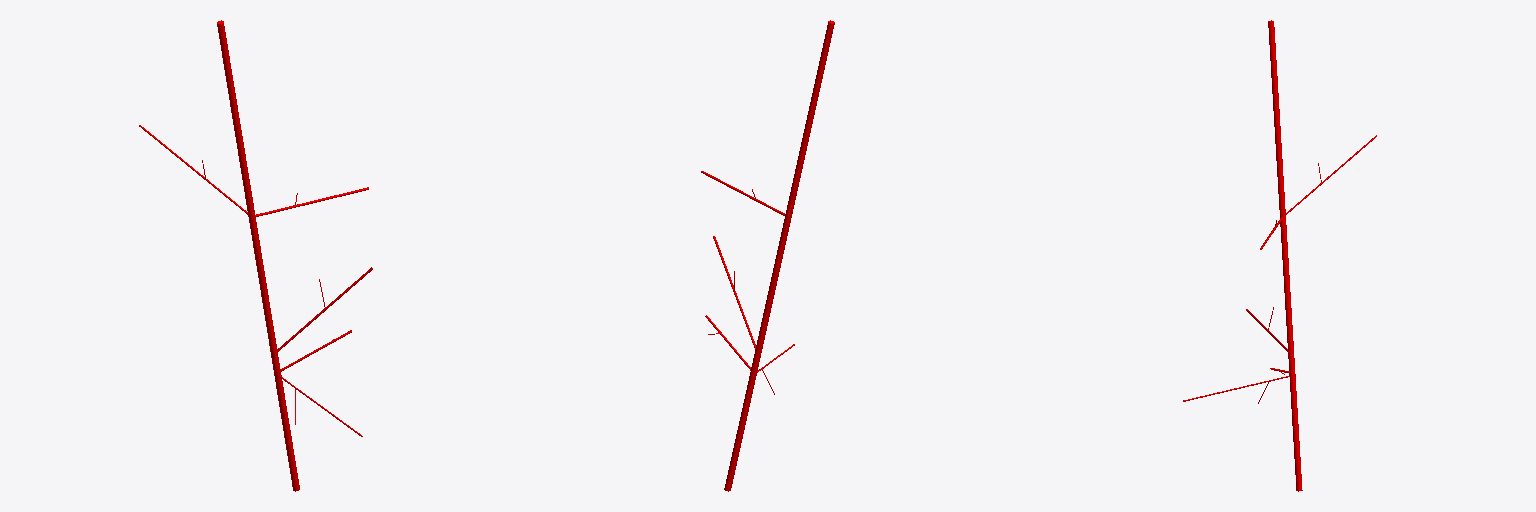
robot.urdf — tree_57.urdf:
<?xml version='1.0' encoding='UTF-8'?>
<robot name="tree_57.urdf">
  <link name="branch_0">
    <inertial>
      <origin xyz="0.0 0.0 0.0" rpy="0.0 -0.0 0.0"/>
      <mass value="0.1"/>
      <inertia ixx="0.001" ixy="0.0" ixz="0.0" iyy="0.001" iyz="0.0" izz="0.001"/>
    </inertial>
    <visual name="branch_0_visual">
      <geometry>
        <cylinder radius="0.07374623050040444" length="11.730475145177925"/>
      </geometry>
      <material name="semantic_material"/>
      <origin xyz="-1.1117279757501413 -0.34293364216243405 5.7486928260185355" rpy="6.630599876571743e-18 0.19968264167855315 -2.8423843373606554"/>
    </visual>
    <collision name="branch_0_collision">
      <geometry>
        <cylinder radius="0.07374623050040444" length="11.730475145177925"/>
      </geometry>
      <origin xyz="-1.1117279757501413 -0.34293364216243405 5.7486928260185355" rpy="6.630599876571743e-18 0.19968264167855315 -2.8423843373606554"/>
    </collision>
  </link>
  <link name="branch_1">
    <inertial>
      <origin xyz="0.0 0.0 0.0" rpy="0.0 -0.0 0.0"/>
      <mass value="0.1"/>
      <inertia ixx="0.001" ixy="0.0" ixz="0.0" iyy="0.001" iyz="0.0" izz="0.001"/>
    </inertial>
    <visual name="branch_1_visual">
      <geometry>
        <cylinder radius="0.02769369212993688" length="2.5629473573617316"/>
      </geometry>
      <material name="semantic_material"/>
      <origin xyz="0.0 0.0 0.0" rpy="0.0 -0.0 0.0"/>
    </visual>
    <collision name="branch_1_collision">
      <geometry>
        <cylinder radius="0.02769369212993688" length="2.5629473573617316"/>
      </geometry>
      <origin xyz="0.0 0.0 0.0" rpy="0.0 -0.0 0.0"/>
    </collision>
  </link>
  <link name="branch_2">
    <inertial>
      <origin xyz="0.0 0.0 0.0" rpy="0.0 -0.0 0.0"/>
      <mass value="0.1"/>
      <inertia ixx="0.001" ixy="0.0" ixz="0.0" iyy="0.001" iyz="0.0" izz="0.001"/>
    </inertial>
    <visual name="branch_2_visual">
      <geometry>
        <cylinder radius="0.01" length="0.28368791596206216"/>
      </geometry>
      <material name="semantic_material"/>
      <origin xyz="0.0 0.0 0.0" rpy="0.0 -0.0 0.0"/>
    </visual>
    <collision name="branch_2_collision">
      <geometry>
        <cylinder radius="0.01" length="0.28368791596206216"/>
      </geometry>
      <origin xyz="0.0 0.0 0.0" rpy="0.0 -0.0 0.0"/>
    </collision>
  </link>
  <link name="branch_3">
    <inertial>
      <origin xyz="0.0 0.0 0.0" rpy="0.0 -0.0 0.0"/>
      <mass value="0.1"/>
      <inertia ixx="0.001" ixy="0.0" ixz="0.0" iyy="0.001" iyz="0.0" izz="0.001"/>
    </inertial>
    <visual name="branch_3_visual">
      <geometry>
        <cylinder radius="0.020562301841930176" length="3.0667867802723303"/>
      </geometry>
      <material name="semantic_material"/>
      <origin xyz="0.0 0.0 0.0" rpy="0.0 -0.0 0.0"/>
    </visual>
    <collision name="branch_3_collision">
      <geometry>
        <cylinder radius="0.020562301841930176" length="3.0667867802723303"/>
      </geometry>
      <origin xyz="0.0 0.0 0.0" rpy="0.0 -0.0 0.0"/>
    </collision>
  </link>
  <link name="branch_4">
    <inertial>
      <origin xyz="0.0 0.0 0.0" rpy="0.0 -0.0 0.0"/>
      <mass value="0.1"/>
      <inertia ixx="0.001" ixy="0.0" ixz="0.0" iyy="0.001" iyz="0.0" izz="0.001"/>
    </inertial>
    <visual name="branch_4_visual">
      <geometry>
        <cylinder radius="0.01" length="0.5139906708947014"/>
      </geometry>
      <material name="semantic_material"/>
      <origin xyz="0.0 0.0 0.0" rpy="0.0 -0.0 0.0"/>
    </visual>
    <collision name="branch_4_collision">
      <geometry>
        <cylinder radius="0.01" length="0.5139906708947014"/>
      </geometry>
      <origin xyz="0.0 0.0 0.0" rpy="0.0 -0.0 0.0"/>
    </collision>
  </link>
  <link name="branch_5">
    <inertial>
      <origin xyz="0.0 0.0 0.0" rpy="0.0 -0.0 0.0"/>
      <mass value="0.1"/>
      <inertia ixx="0.001" ixy="0.0" ixz="0.0" iyy="0.001" iyz="0.0" izz="0.001"/>
    </inertial>
    <visual name="branch_5_visual">
      <geometry>
        <cylinder radius="0.017648667254807217" length="2.7406259235621353"/>
      </geometry>
      <material name="semantic_material"/>
      <origin xyz="0.0 0.0 0.0" rpy="0.0 -0.0 0.0"/>
    </visual>
    <collision name="branch_5_collision">
      <geometry>
        <cylinder radius="0.017648667254807217" length="2.7406259235621353"/>
      </geometry>
      <origin xyz="0.0 0.0 0.0" rpy="0.0 -0.0 0.0"/>
    </collision>
  </link>
  <link name="branch_6">
    <inertial>
      <origin xyz="0.0 0.0 0.0" rpy="0.0 -0.0 0.0"/>
      <mass value="0.1"/>
      <inertia ixx="0.001" ixy="0.0" ixz="0.0" iyy="0.001" iyz="0.0" izz="0.001"/>
    </inertial>
    <visual name="branch_6_visual">
      <geometry>
        <cylinder radius="0.01" length="0.7699136300426689"/>
      </geometry>
      <material name="semantic_material"/>
      <origin xyz="0.0 0.0 0.0" rpy="0.0 -0.0 0.0"/>
    </visual>
    <collision name="branch_6_collision">
      <geometry>
        <cylinder radius="0.01" length="0.7699136300426689"/>
      </geometry>
      <origin xyz="0.0 0.0 0.0" rpy="0.0 -0.0 0.0"/>
    </collision>
  </link>
  <link name="branch_7">
    <inertial>
      <origin xyz="0.0 0.0 0.0" rpy="0.0 -0.0 0.0"/>
      <mass value="0.1"/>
      <inertia ixx="0.001" ixy="0.0" ixz="0.0" iyy="0.001" iyz="0.0" izz="0.001"/>
    </inertial>
    <visual name="branch_7_visual">
      <geometry>
        <cylinder radius="0.02534422824689962" length="1.7690519358703638"/>
      </geometry>
      <material name="semantic_material"/>
      <origin xyz="0.0 0.0 0.0" rpy="0.0 -0.0 0.0"/>
    </visual>
    <collision name="branch_7_collision">
      <geometry>
        <cylinder radius="0.02534422824689962" length="1.7690519358703638"/>
      </geometry>
      <origin xyz="0.0 0.0 0.0" rpy="0.0 -0.0 0.0"/>
    </collision>
  </link>
  <link name="branch_8">
    <inertial>
      <origin xyz="0.0 0.0 0.0" rpy="0.0 -0.0 0.0"/>
      <mass value="0.1"/>
      <inertia ixx="0.001" ixy="0.0" ixz="0.0" iyy="0.001" iyz="0.0" izz="0.001"/>
    </inertial>
    <visual name="branch_8_visual">
      <geometry>
        <cylinder radius="0.01" length="0.27711634391391404"/>
      </geometry>
      <material name="semantic_material"/>
      <origin xyz="0.0 0.0 0.0" rpy="0.0 -0.0 0.0"/>
    </visual>
    <collision name="branch_8_collision">
      <geometry>
        <cylinder radius="0.01" length="0.27711634391391404"/>
      </geometry>
      <origin xyz="0.0 0.0 0.0" rpy="0.0 -0.0 0.0"/>
    </collision>
  </link>
  <link name="branch_9">
    <inertial>
      <origin xyz="0.0 0.0 0.0" rpy="0.0 -0.0 0.0"/>
      <mass value="0.1"/>
      <inertia ixx="0.001" ixy="0.0" ixz="0.0" iyy="0.001" iyz="0.0" izz="0.001"/>
    </inertial>
    <visual name="branch_9_visual">
      <geometry>
        <cylinder radius="0.02628031042738412" length="2.8475268829455285"/>
      </geometry>
      <material name="semantic_material"/>
      <origin xyz="0.0 0.0 0.0" rpy="0.0 -0.0 0.0"/>
    </visual>
    <collision name="branch_9_collision">
      <geometry>
        <cylinder radius="0.02628031042738412" length="2.8475268829455285"/>
      </geometry>
      <origin xyz="0.0 0.0 0.0" rpy="0.0 -0.0 0.0"/>
    </collision>
  </link>
  <link name="branch_10">
    <inertial>
      <origin xyz="0.0 0.0 0.0" rpy="0.0 -0.0 0.0"/>
      <mass value="0.1"/>
      <inertia ixx="0.001" ixy="0.0" ixz="0.0" iyy="0.001" iyz="0.0" izz="0.001"/>
    </inertial>
    <visual name="branch_10_visual">
      <geometry>
        <cylinder radius="0.01" length="0.6554555258926908"/>
      </geometry>
      <material name="semantic_material"/>
      <origin xyz="0.0 0.0 0.0" rpy="0.0 -0.0 0.0"/>
    </visual>
    <collision name="branch_10_collision">
      <geometry>
        <cylinder radius="0.01" length="0.6554555258926908"/>
      </geometry>
      <origin xyz="0.0 0.0 0.0" rpy="0.0 -0.0 0.0"/>
    </collision>
  </link>
  <joint name="joint_0_1" type="fixed">
    <parent link="branch_0"/>
    <child link="branch_1"/>
    <axis xyz="1. 0. 0."/>
    <origin xyz="-0.05341408166103142 -0.6699708320430532 6.855424324631285" rpy="0.7109867385226362 1.4218459412188205 0.5031470005571623"/>
  </joint>
  <joint name="joint_0_3" type="fixed">
    <parent link="branch_0"/>
    <child link="branch_3"/>
    <axis xyz="1. 0. 0."/>
    <origin xyz="-1.9939820770449386 0.736215062567378 7.462874304305722" rpy="-0.37861268868710674 1.0100681657142743 1.6820797792808824"/>
  </joint>
  <joint name="joint_0_5" type="fixed">
    <parent link="branch_0"/>
    <child link="branch_5"/>
    <axis xyz="1. 0. 0."/>
    <origin xyz="-0.29748072698713374 -1.4963730906512953 2.5910663687332445" rpy="2.2756330295871785 1.310207262287556 0.87241758903934"/>
  </joint>
  <joint name="joint_0_7" type="fixed">
    <parent link="branch_0"/>
    <child link="branch_7"/>
    <axis xyz="1. 0. 0."/>
    <origin xyz="0.18741444157852952 -0.42605549907173024 3.284886169097439" rpy="0.23382321503820214 1.0815518799418884 -0.06550642162286933"/>
  </joint>
  <joint name="joint_0_9" type="fixed">
    <parent link="branch_0"/>
    <child link="branch_9"/>
    <axis xyz="1. 0. 0."/>
    <origin xyz="0.21801643254550102 -0.7384021278579955 4.3388937831270535" rpy="0.18821372370678438 0.7799029398321492 -0.2927483144732119"/>
  </joint>
  <joint name="joint_1_2" type="fixed">
    <parent link="branch_0"/>
    <child link="branch_2"/>
    <axis xyz="1. 0. 0."/>
    <origin xyz="-0.33543460034440536 -0.5720584333114919 6.951831906614627" rpy="0.27611015320333804 -0.2083796544773524 2.8383700911976026"/>
  </joint>
  <joint name="joint_3_4" type="fixed">
    <parent link="branch_0"/>
    <child link="branch_4"/>
    <axis xyz="1. 0. 0."/>
    <origin xyz="-1.9312443523762532 0.49652568319122425 7.574993202828755" rpy="0.2800699644276963 0.04490229371958658 -1.1714970833213179"/>
  </joint>
  <joint name="joint_5_6" type="fixed">
    <parent link="branch_0"/>
    <child link="branch_6"/>
    <axis xyz="1. 0. 0."/>
    <origin xyz="-0.5273722188095351 -0.8629551888663646 2.375669936649682" rpy="-2.804744501563719 0.2867824284808766 1.9106368833211356"/>
  </joint>
  <joint name="joint_7_8" type="fixed">
    <parent link="branch_0"/>
    <child link="branch_8"/>
    <axis xyz="1. 0. 0."/>
    <origin xyz="0.5829393489326645 -0.441290415518197 3.435169964755181" rpy="1.603208449147026 0.5738113934095641 2.2185220773368215"/>
  </joint>
  <joint name="joint_9_10" type="fixed">
    <parent link="branch_0"/>
    <child link="branch_10"/>
    <axis xyz="1. 0. 0."/>
    <origin xyz="0.2242973820324077 -0.687613228819079 4.697242344014674" rpy="0.12355578184434605 0.2061926780438354 2.49088771044187"/>
  </joint>
  <material name="semantic_material">
    <color rgba="1. 0. 0. 1."/>
  </material>
</robot>

--- Render facts (derived) ---
3 views of the same robot in one strip: view 1: azimuth 30°, elevation 25°; view 2: azimuth 150°, elevation 25°; view 3: azimuth 270°, elevation 25° (orthographic).
Model tree_57.urdf with 11 links and 10 joints (10 fixed), rooted at branch_0, posed all joints at 0.
Links seen in each view (by area): view 1: branch_0; view 2: branch_0; view 3: branch_0.
Link boxes in pixels (x1,y1,x2,y2): branch_0: (217,20,299,491); branch_0: (724,20,834,491); branch_0: (1268,20,1302,491).
Bounding box of the posed robot: 3.91 × 4.72 × 11.53 m (x, y, z).
Geometry: primitives only (box / cylinder / sphere), no mesh files.
